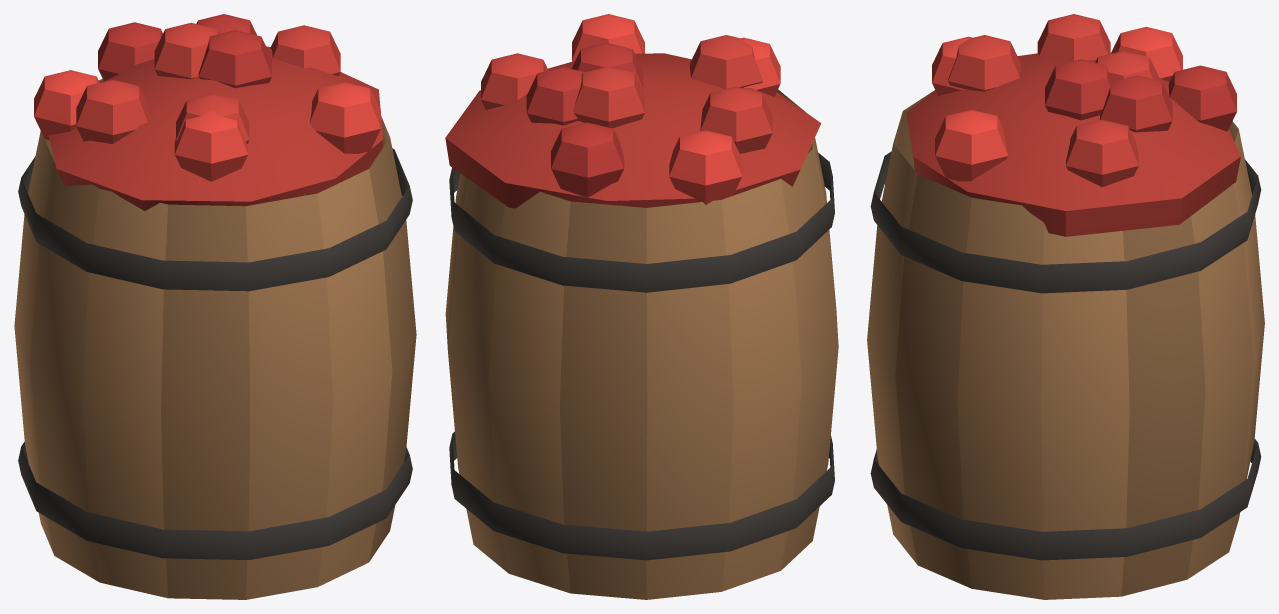
Rendered from fruit-barrel.glb.
3 views of the same model, side by side, from view 1: azimuth 30°, elevation 25°; view 2: azimuth 150°, elevation 25°; view 3: azimuth 270°, elevation 25° (orthographic).
Visible parts, largest first — view 1: fruit-barrel; view 2: fruit-barrel; view 3: fruit-barrel.
Part boxes in pixels (x1,y1,x2,y2): fruit-barrel: (14,14,416,599); fruit-barrel: (445,14,838,599); fruit-barrel: (867,14,1264,599).
Bounding box in the file's own units: 0.7541 × 1 × 0.7562.
